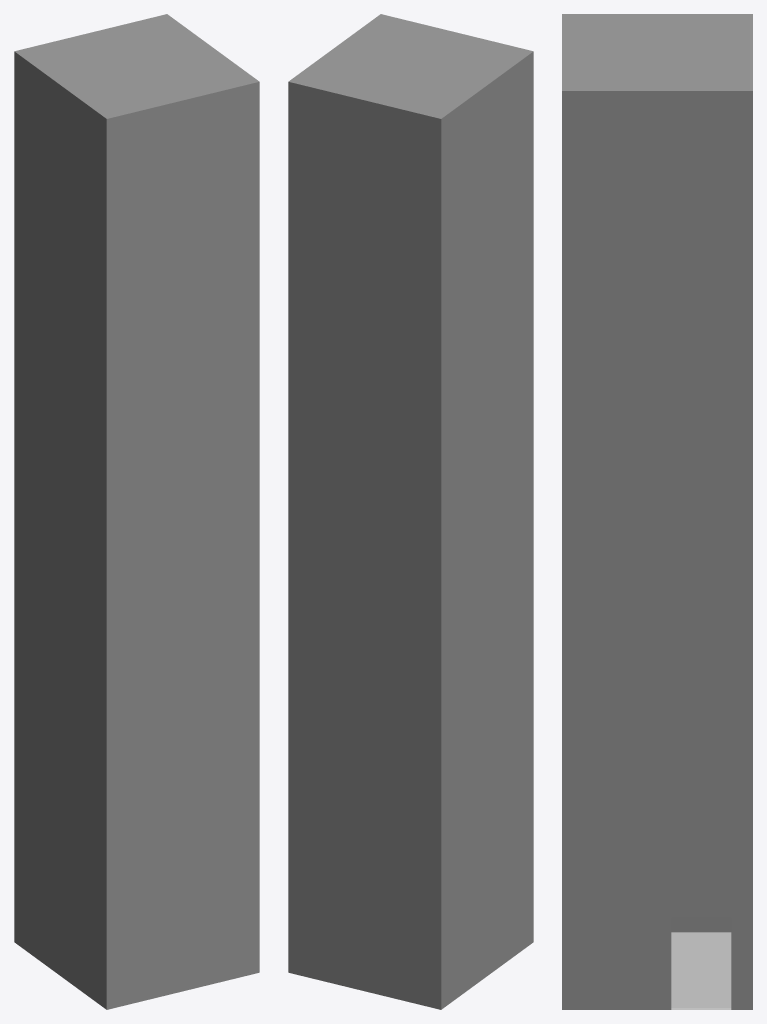
File: High_Building_2.glb
The picture shows the model from 3 angles, left to right: view 1: azimuth 30°, elevation 25°; view 2: azimuth 150°, elevation 25°; view 3: azimuth 270°, elevation 25°; orthographic projection. The views are drawn at different scales.
Parts seen in each view (by area): view 1: highBuilding2; view 2: highBuilding2; view 3: highBuilding2.
Part boxes in pixels (box(x1,y1,x2,y2)): highBuilding2: box(14, 14, 259, 1009); highBuilding2: box(288, 14, 533, 1009); highBuilding2: box(562, 14, 752, 1009).
Size of what is drawn, in the model's own units: 5.08 by 28.31 by 5.33.
Materials: 1 (1 with a texture image).
